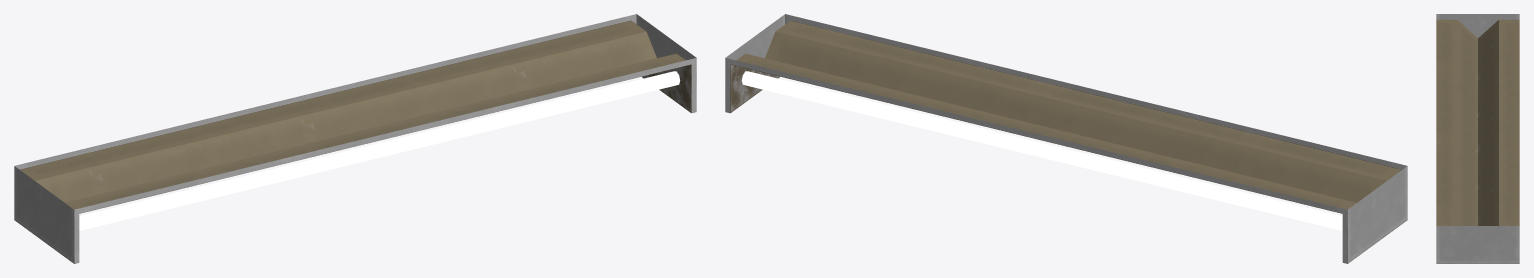
The model's file is light_bar_low.fbx.
3 views of the same model, side by side, from view 1: azimuth 30°, elevation 25°; view 2: azimuth 150°, elevation 25°; view 3: azimuth 270°, elevation 25° (orthographic). The views are drawn at different scales.
Visible parts, largest first — view 1: light_bar_base_mesh, light_bar_body_B_mesh; view 2: light_bar_base_mesh, light_bar_body_A_mesh; view 3: light_bar_base_mesh.
Part boxes in pixels (x1,y1,x2,y2): light_bar_base_mesh: [14, 14, 696, 263]; light_bar_body_B_mesh: [79, 71, 680, 230]; light_bar_base_mesh: [725, 14, 1407, 263]; light_bar_body_A_mesh: [741, 71, 1342, 230]; light_bar_base_mesh: [1436, 14, 1519, 263].
Bounding box in the file's own units: 120 × 10 × 20.
